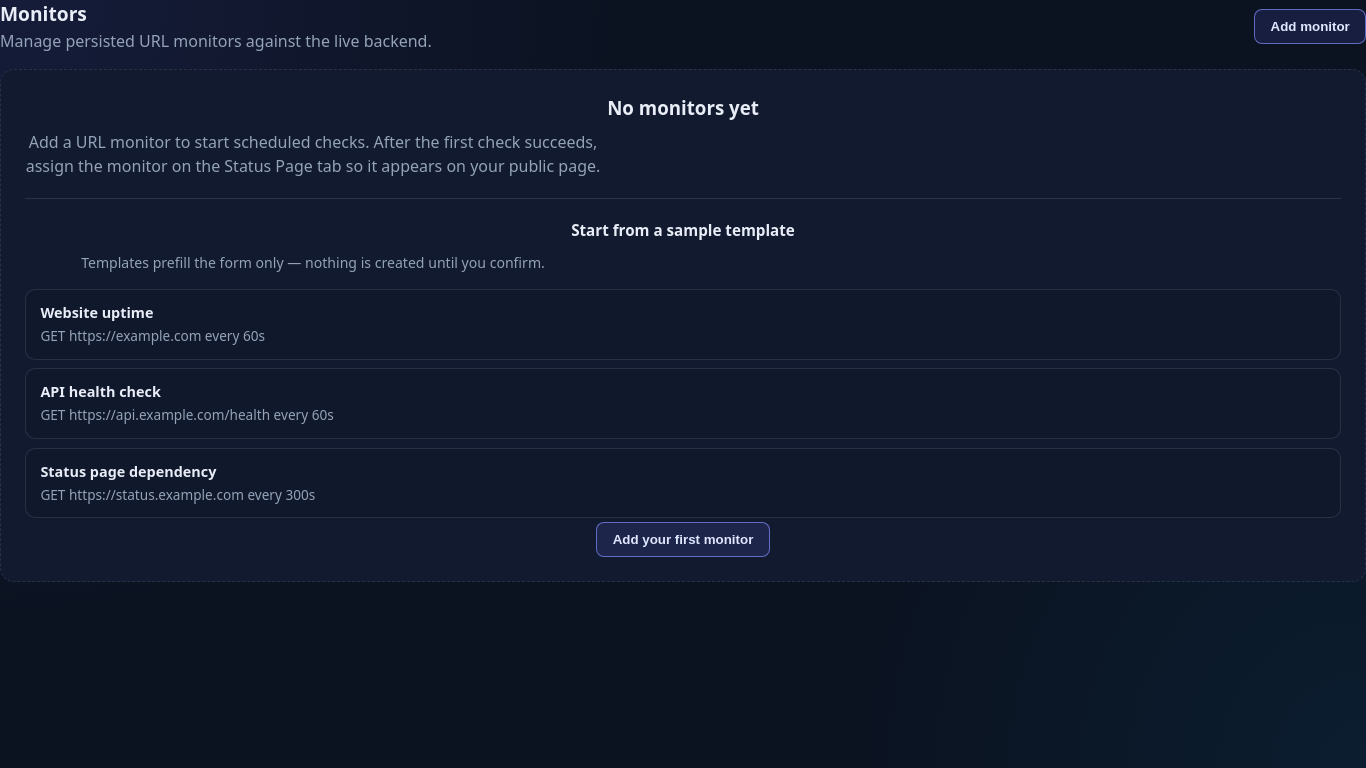
Test: MonitorsPage › prefills the monitor form from a sample template
Expected: the element named "Sample monitor templates" is shown, [25,198,1341,518]
What coordinates should you click on to do the following:
click the button "Website uptime GET https://example.com every 60s"
I would click on:
 (97, 313)
Its box is [25,289,1341,360].
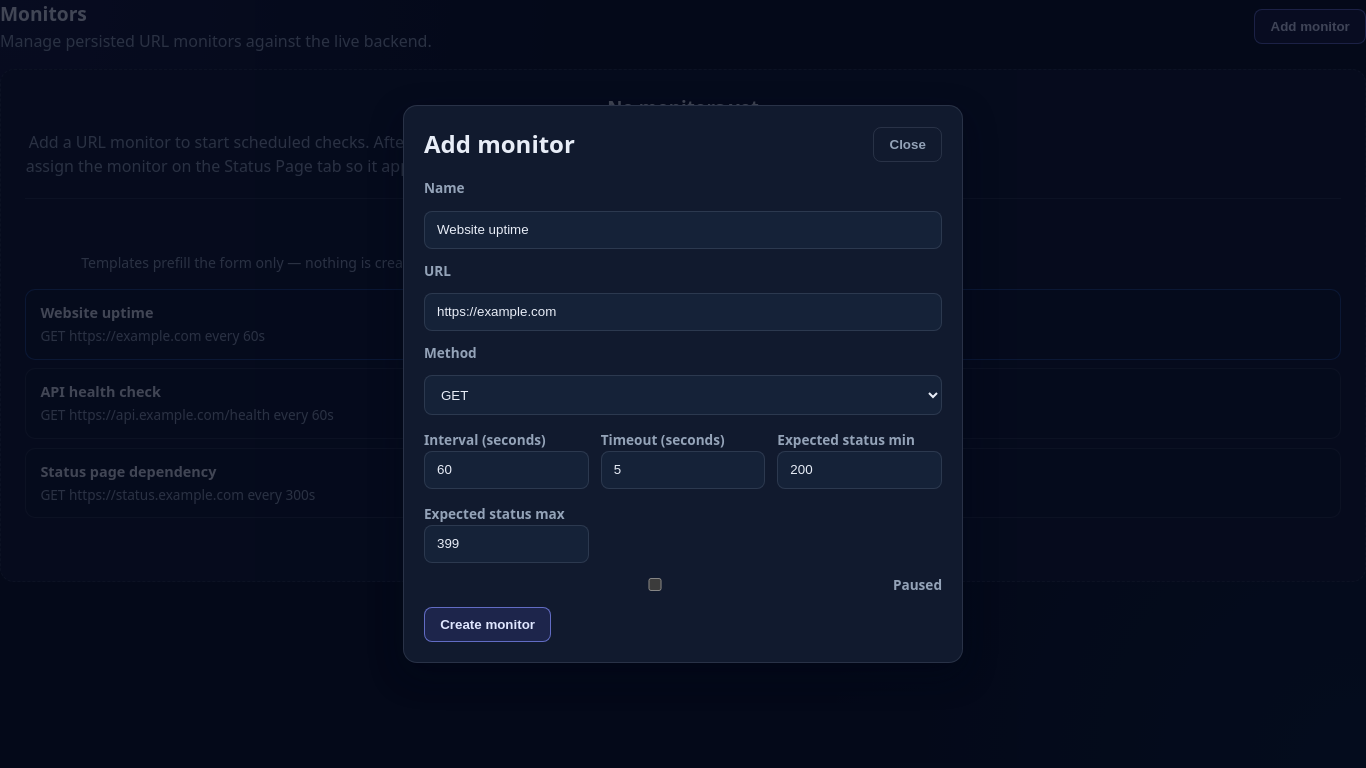
Expected: the field showing "Website uptime" is shown, [424,211,942,249]
Expected: the field showing "https://example.com" is shown, [424,293,942,331]
Expected: the number field showing "60" is shown, [424,451,589,489]
